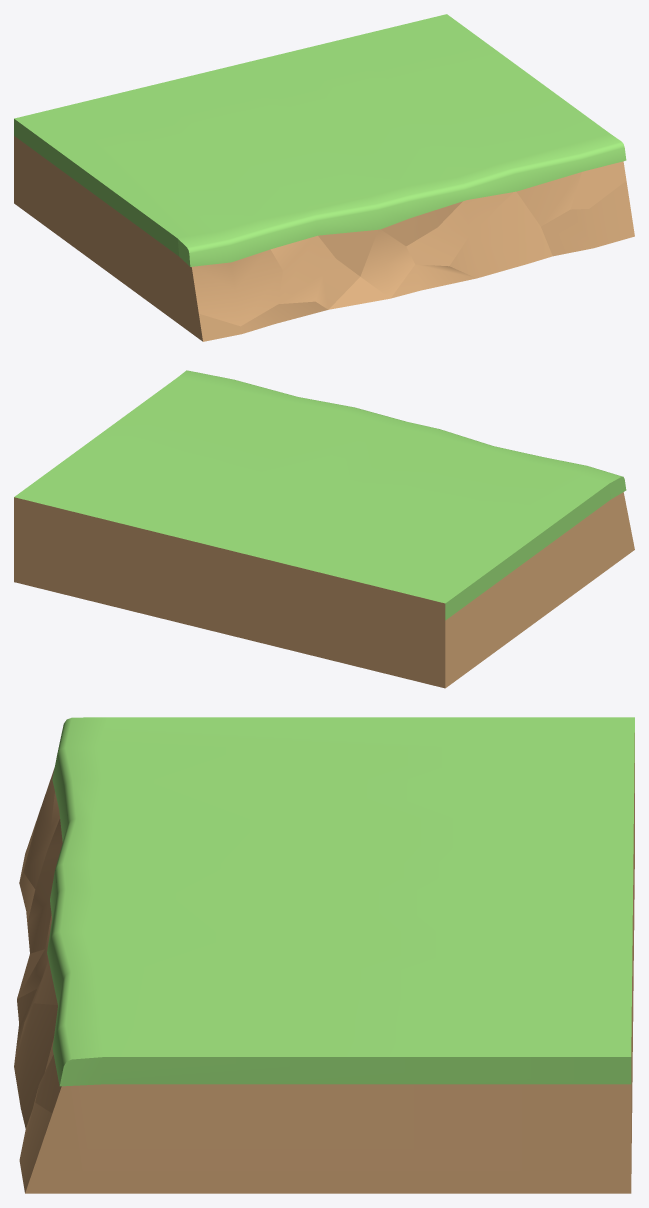
Rendered from land.fbx.
3 views of the same model, one above another, from view 1: azimuth 30°, elevation 25°; view 2: azimuth 150°, elevation 25°; view 3: azimuth 270°, elevation 25° (orthographic). The views are drawn at different scales.
Visible parts, largest first — view 1: Cube; view 2: Cube; view 3: Cube.
Boxes of the visible parts, x1,y1,x2,y2 form: Cube: [14, 14, 634, 341]; Cube: [14, 370, 634, 688]; Cube: [14, 717, 634, 1193].
Bounding box in the file's own units: 929 × 173 × 711.
